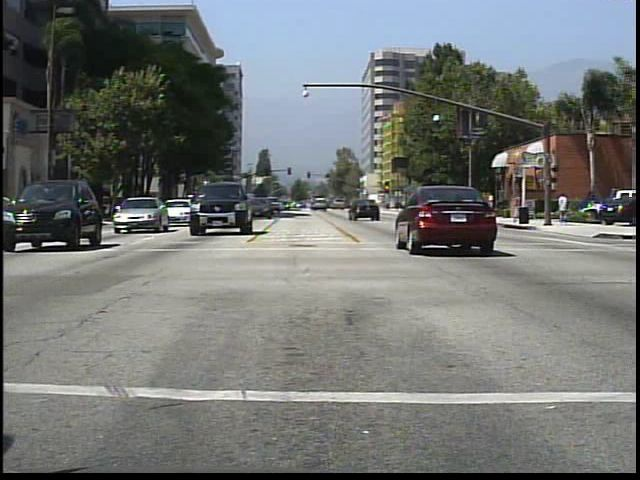person: (506, 188, 523, 224), (557, 190, 572, 226)
